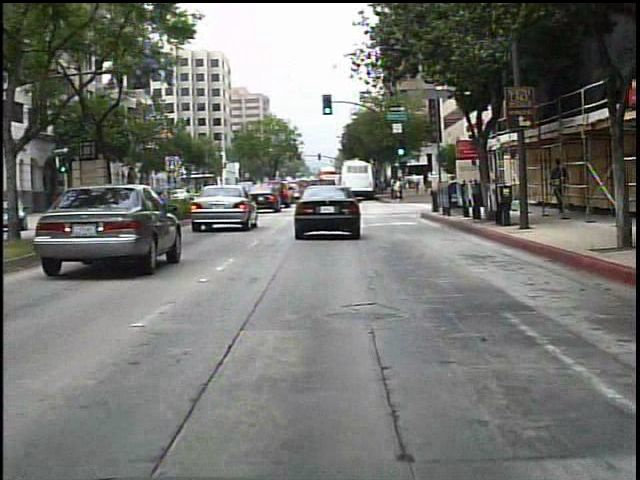person: (544, 155, 575, 222)
